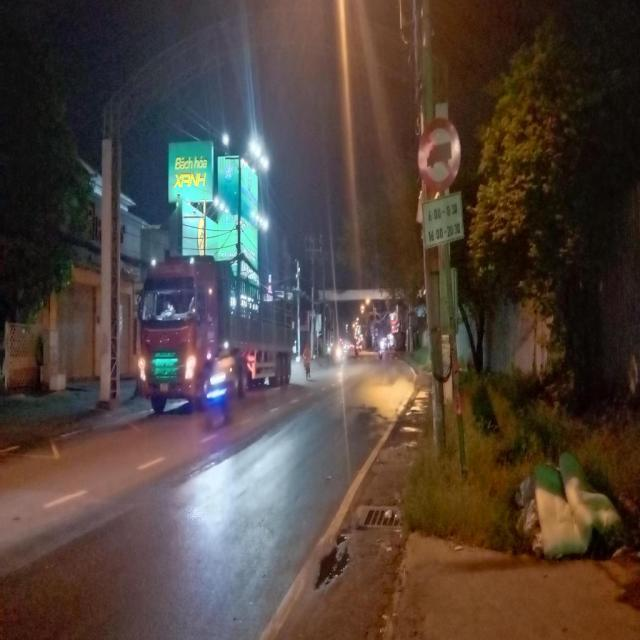106-cam-oto-tai: (418, 120, 460, 191)
